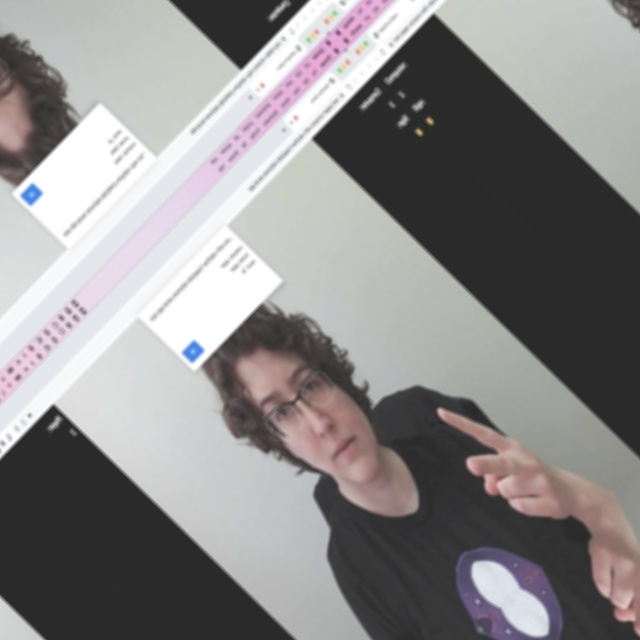Paper: (408, 363, 603, 556)
